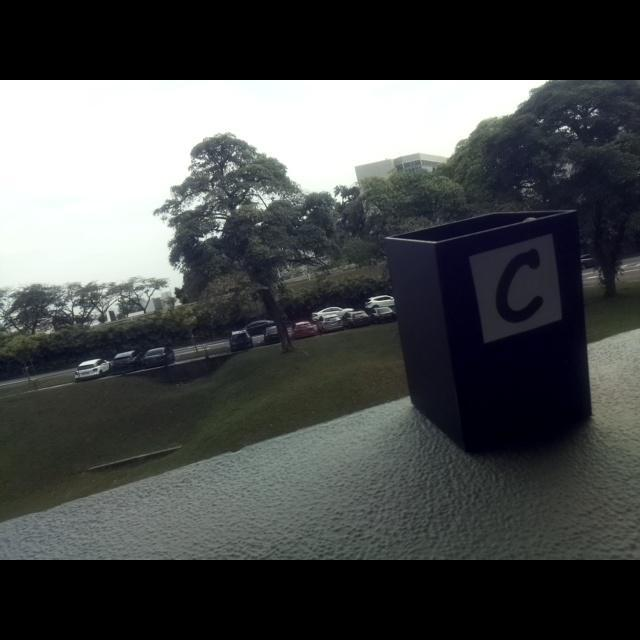C: (497, 249, 544, 324)
